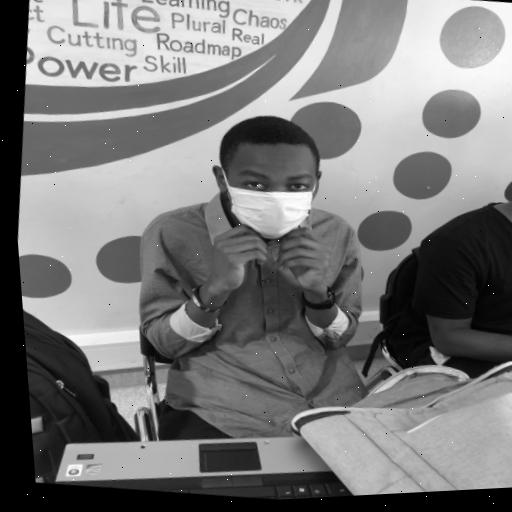mask: (213, 134, 325, 247)
